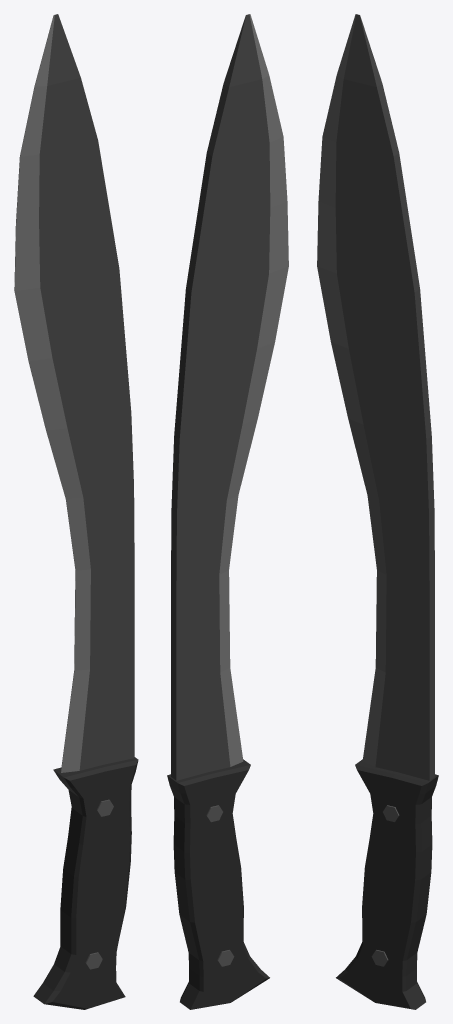
The model's file is Machete_01.fbx.
The picture shows the model from 3 angles, left to right: view 1: azimuth 30°, elevation 25°; view 2: azimuth 210°, elevation 25°; view 3: azimuth 330°, elevation 25°; orthographic projection.
Parts seen in each view (by area): view 1: Machete_01; view 2: Machete_01; view 3: Machete_01.
Boxes of the visible parts, x1,y1,x2,y2 form: Machete_01: (14, 14, 138, 1009); Machete_01: (167, 14, 288, 1009); Machete_01: (317, 14, 438, 1009).
Bounding box in the file's own units: 0.0945 × 0.759 × 0.0226.
